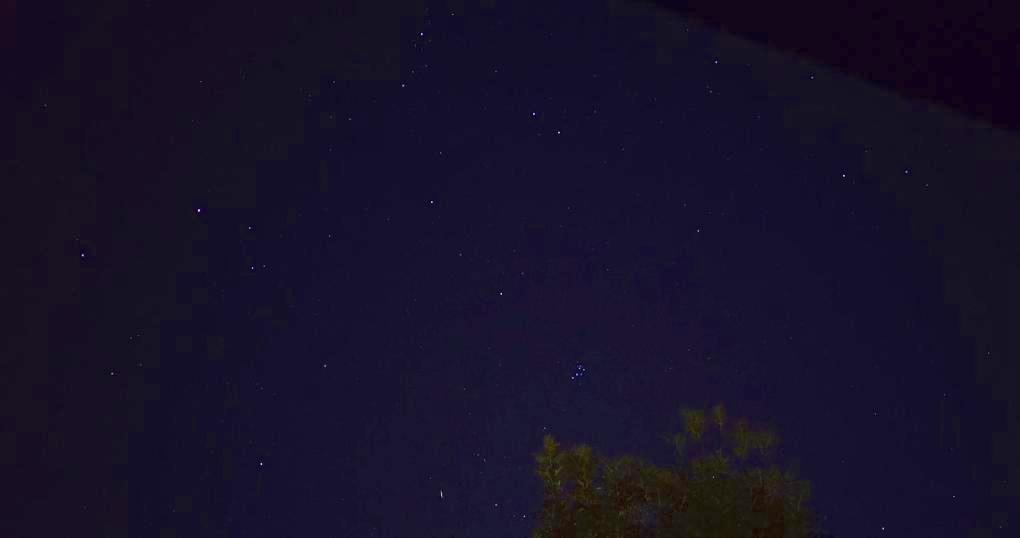meteorite: (430, 486, 453, 501)
